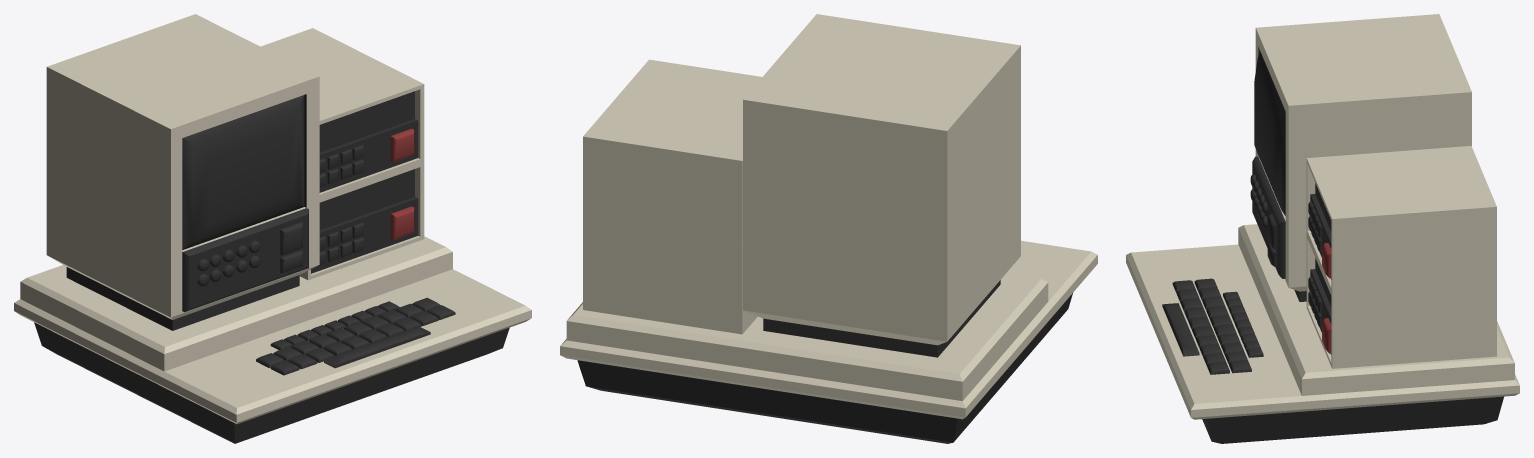
File: monitor_02_asset.fbx
3 renders of one model, left to right at view 1: azimuth 30°, elevation 25°; view 2: azimuth 150°, elevation 25°; view 3: azimuth 270°, elevation 25°, orthographic. The views are drawn at different scales.
Parts seen in each view (by area): view 1: monitor_02_asset; view 2: monitor_02_asset; view 3: monitor_02_asset.
Part boxes in pixels (x1,y1,x2,y2): monitor_02_asset: (14,14,531,443); monitor_02_asset: (560,14,1097,443); monitor_02_asset: (1126,14,1519,443).
Bounding box in the file's own units: 1.21 × 0.866 × 1.12.
